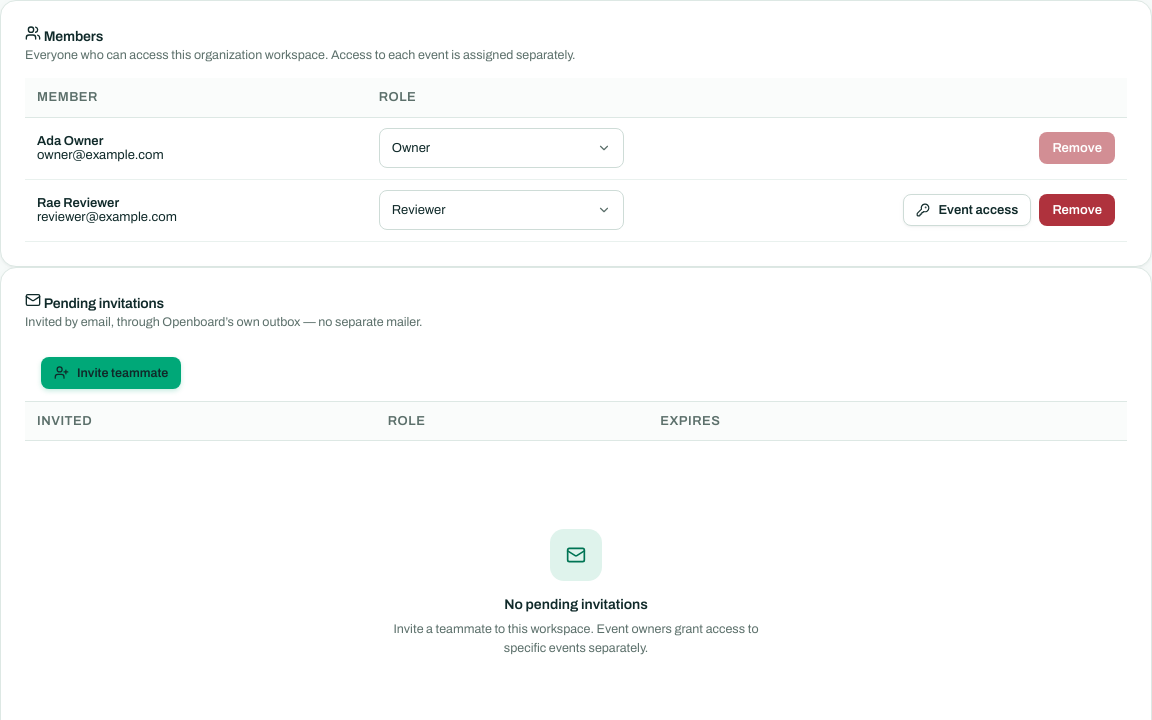
it: organization Team membership recovery › reconciles ambiguous event-access grants and removals before unlocking Team writes
Step 1. Click the button "Event access" → click(967, 210), box [903,194,1031,226]
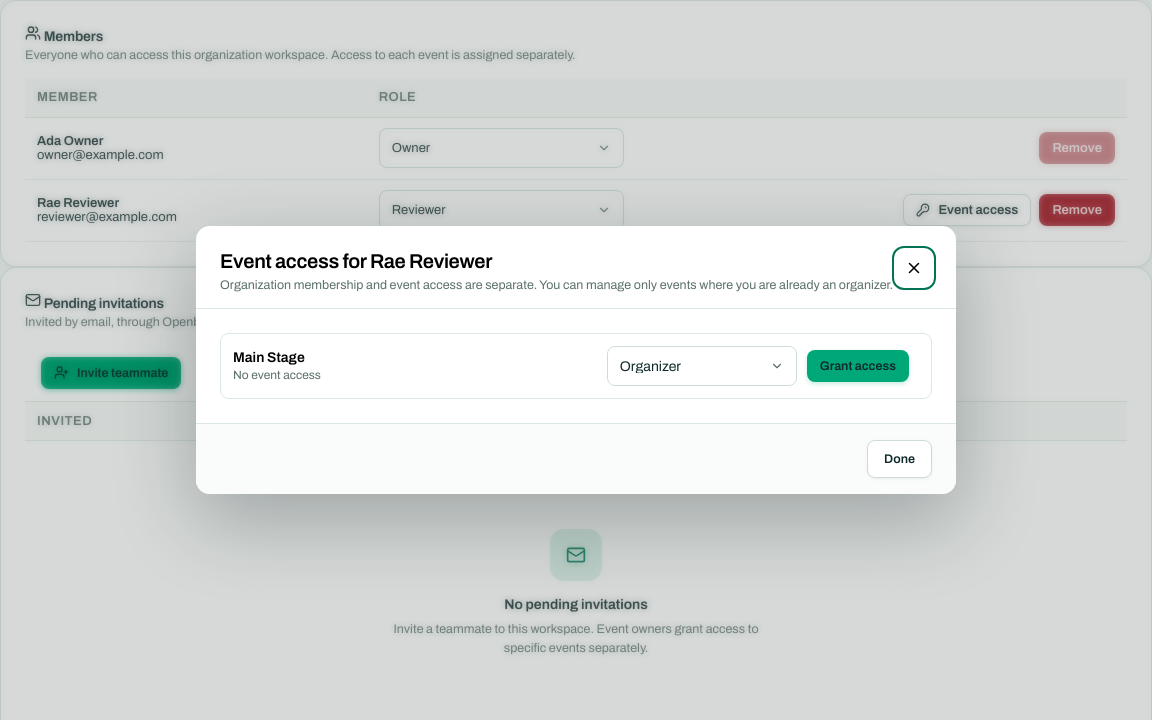
Step 2. Click the button "Grant access" → click(858, 366), box [807,350,909,382]
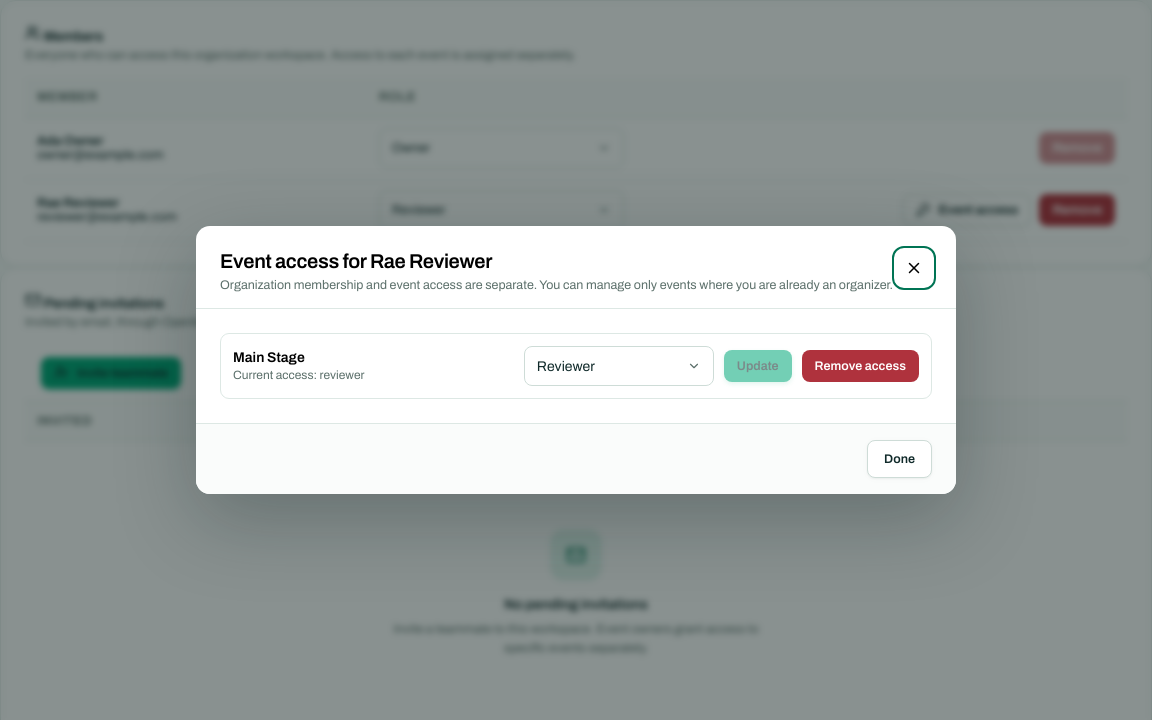
Expected: the dialog shows "Current access: reviewer", [233,368,365,382]
Step 3. Click the button "Remove access" → click(860, 366), box [802,350,919,382]
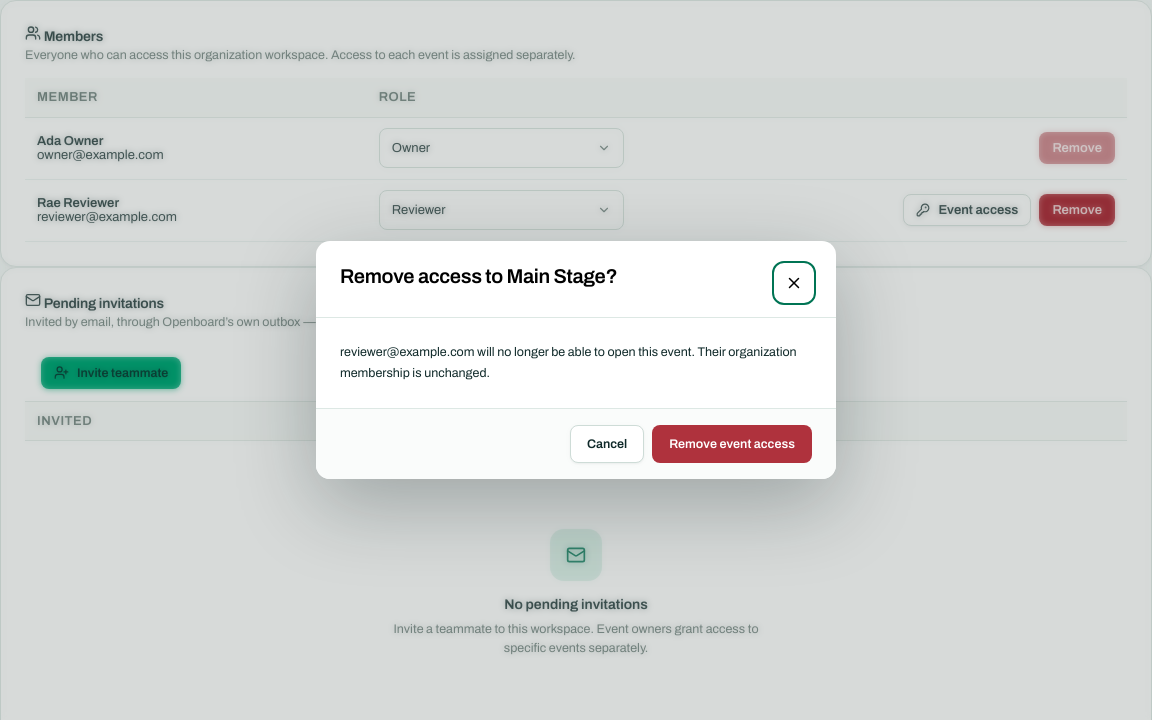
Step 4. Click the button "Remove event access" → click(732, 444), box [652,425,812,463]
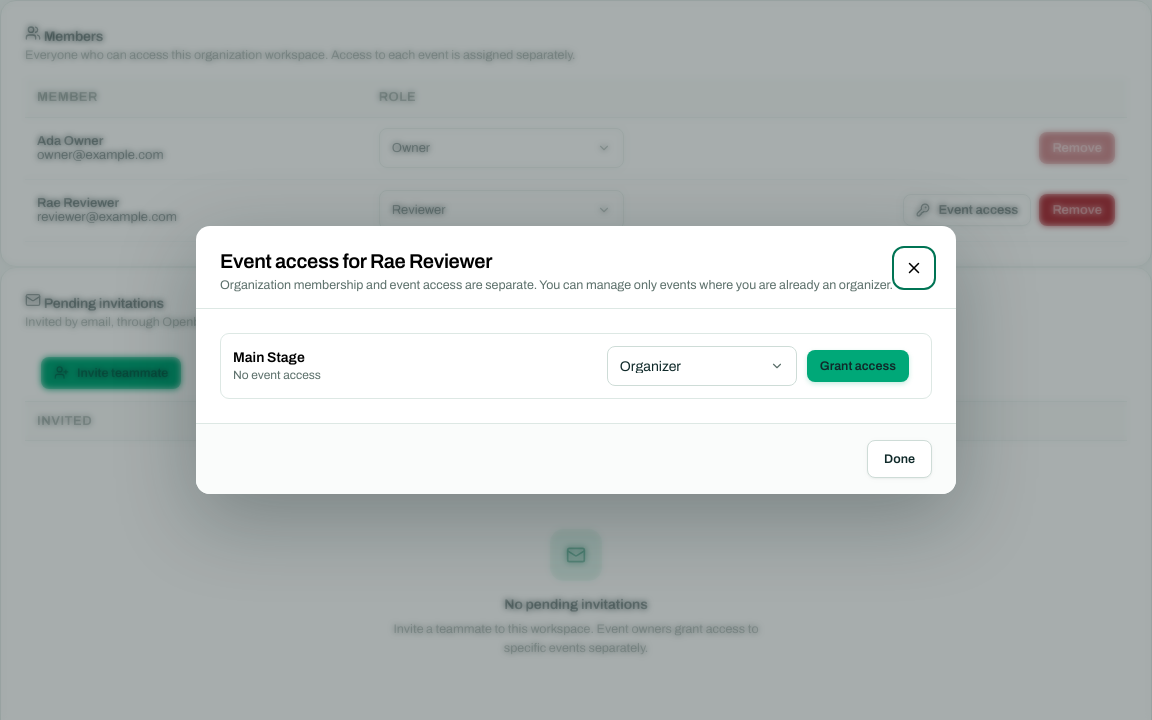
Expected: the button "Invite teammate" is enabled, [41,356,181,388]
Expected: the dialog shows "No event access", [233,368,321,382]
